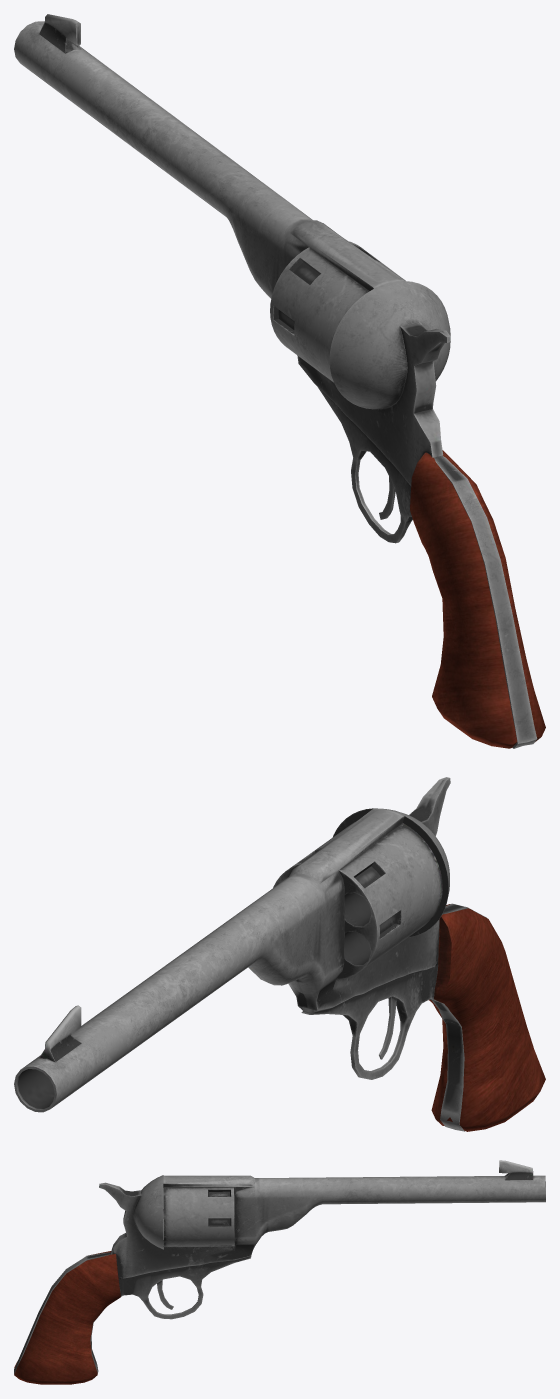
The model's file is Revolver.fbx.
3 renders of one model, top to bottom at view 1: azimuth 30°, elevation 25°; view 2: azimuth 150°, elevation 25°; view 3: azimuth 270°, elevation 25°, orthographic. The views are drawn at different scales.
Visible parts, largest first — view 1: gun; view 2: gun; view 3: gun.
Boxes of the visible parts, bbox=[...] form: gun: bbox=[14, 14, 545, 748]; gun: bbox=[14, 777, 545, 1131]; gun: bbox=[14, 1160, 545, 1384].
Bounding box in the file's own units: 63.79 × 203 × 453.
